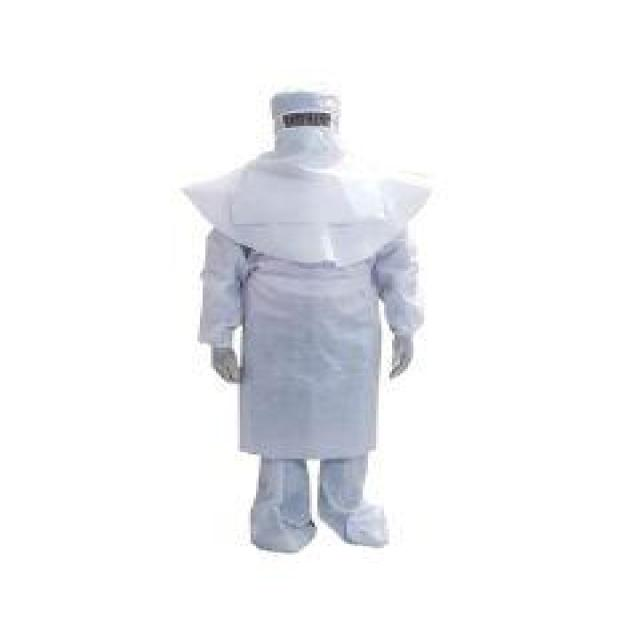Coverall: (168, 71, 437, 570)
Gloves: (187, 333, 261, 399), (373, 322, 435, 382)
